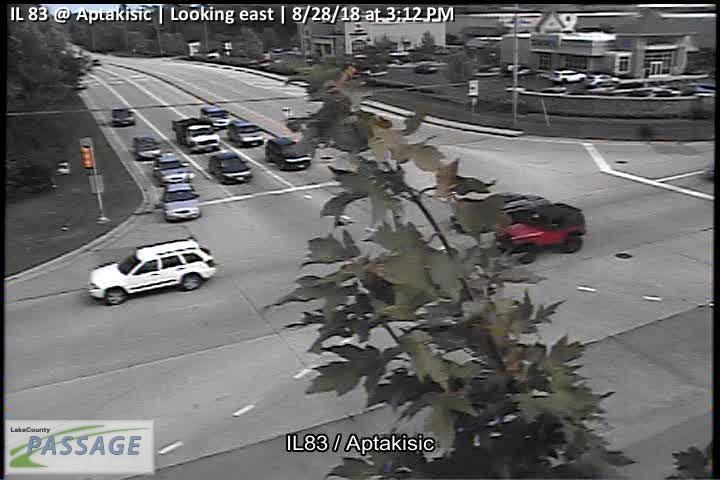SUV: (88, 236, 219, 307), (265, 137, 313, 172), (227, 119, 264, 148), (201, 105, 231, 131)
Sedan: (160, 182, 202, 223), (151, 153, 194, 183), (132, 137, 163, 162), (111, 109, 136, 128)
Truck: (170, 117, 221, 153)
